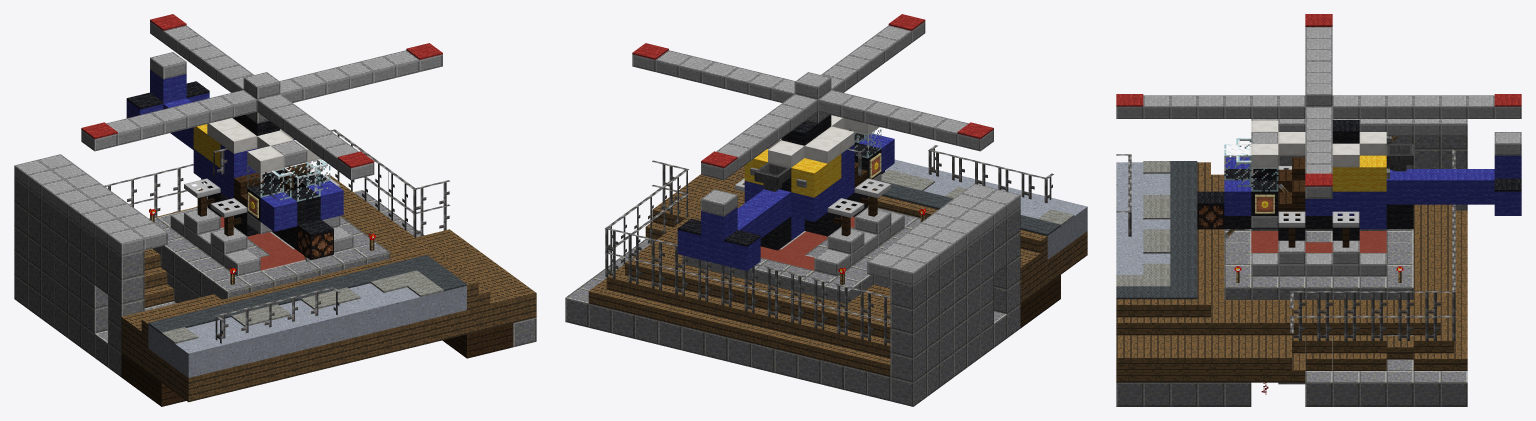
The model's file is heli.glb.
3 views of the same model, side by side, from view 1: azimuth 30°, elevation 25°; view 2: azimuth 150°, elevation 25°; view 3: azimuth 270°, elevation 25° (orthographic).
Visible parts, largest first — view 1: node_12, node_17, node_8, node_9, node_11, node_14, node_5, node_10, node_13, node_16; view 2: node_12, node_17, node_8, node_11, node_9, node_14, node_13, node_16, node_10, node_6; view 3: node_12, node_8, node_17, node_11, node_9, node_13, node_14, node_10, node_5, node_6.
Part boxes in pixels (left/top/right/bottom): node_12: left=149, top=127, right=536, bottom=379; node_17: left=14, top=154, right=281, bottom=406; node_8: left=174, top=35, right=442, bottom=180; node_9: left=126, top=14, right=209, bottom=109; node_11: left=113, top=129, right=449, bottom=321; node_14: left=81, top=107, right=187, bottom=151; node_5: left=247, top=159, right=330, bottom=201; node_10: left=149, top=163, right=375, bottom=284; node_13: left=126, top=92, right=209, bottom=137; node_16: left=104, top=183, right=275, bottom=343; node_12: left=565, top=129, right=994, bottom=384; node_17: left=820, top=183, right=1087, bottom=406; node_8: left=632, top=14, right=925, bottom=197; node_11: left=605, top=145, right=988, bottom=329; node_9: left=677, top=143, right=760, bottom=246; node_14: left=887, top=107, right=993, bottom=151; node_13: left=677, top=218, right=760, bottom=270; node_16: left=827, top=164, right=1053, bottom=345; node_10: left=735, top=178, right=925, bottom=284; node_6: left=754, top=162, right=791, bottom=191; node_12: left=1116, top=157, right=1467, bottom=406; node_8: left=1116, top=61, right=1467, bottom=198; node_17: left=1116, top=119, right=1467, bottom=244; node_11: left=1116, top=183, right=1455, bottom=394; node_9: left=1467, top=94, right=1521, bottom=191; node_13: left=1467, top=169, right=1521, bottom=215; node_14: left=1305, top=14, right=1332, bottom=61; node_10: left=1224, top=166, right=1403, bottom=384; node_5: left=1224, top=138, right=1278, bottom=191; node_6: left=1386, top=144, right=1413, bottom=171.
Bounding box in the file's own units: 15 × 9.5 × 15.
Materials: 4 (3 with a texture image).
